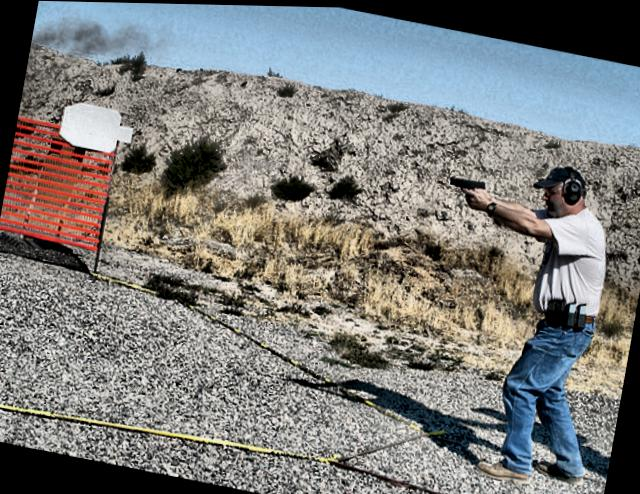pistol: (446, 170, 486, 198)
